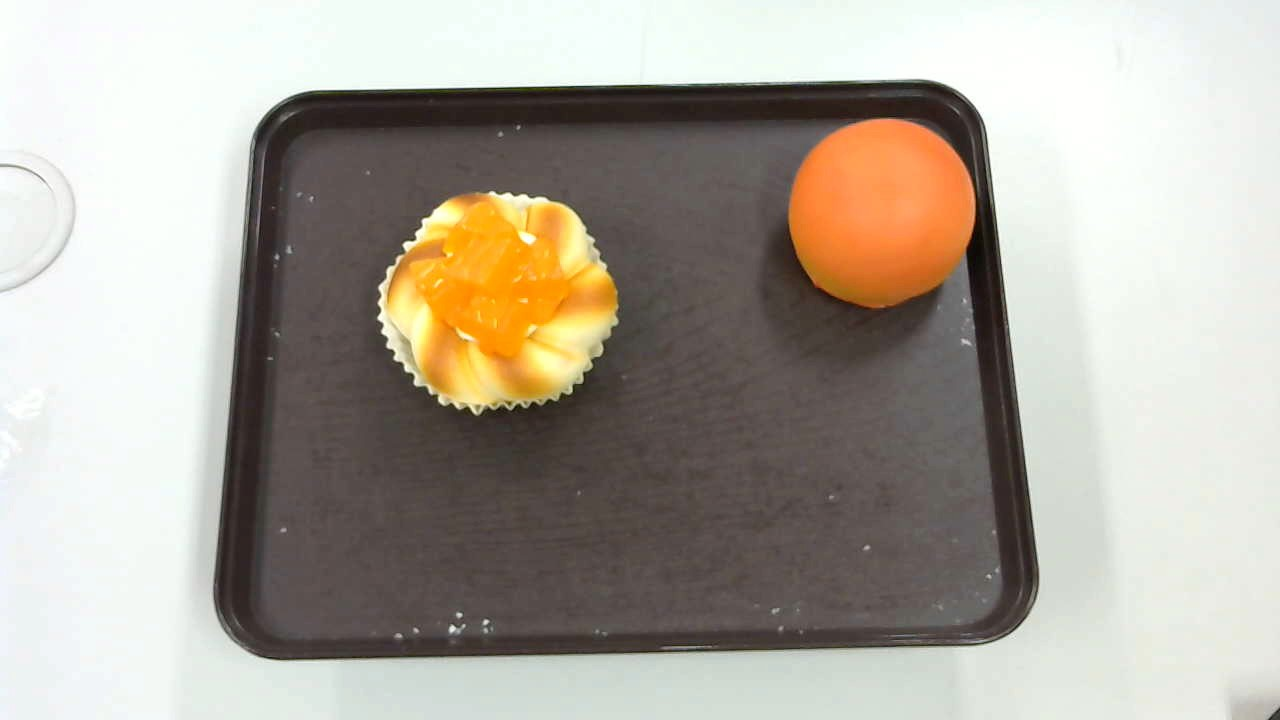bun: (788, 118, 976, 307)
mango tart: (377, 191, 619, 416)
